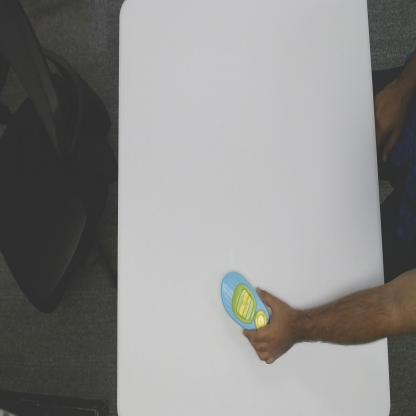Arm: (299, 283, 387, 349)
Boat: (219, 269, 270, 331)
Hand: (241, 285, 295, 367)
